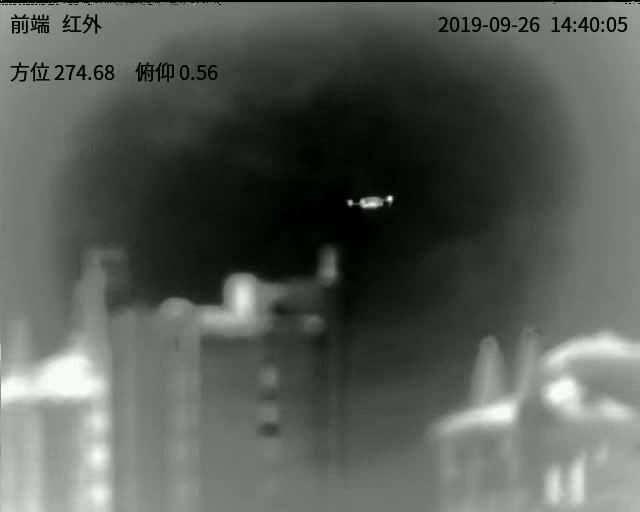DRONE: (344, 192, 395, 211)
